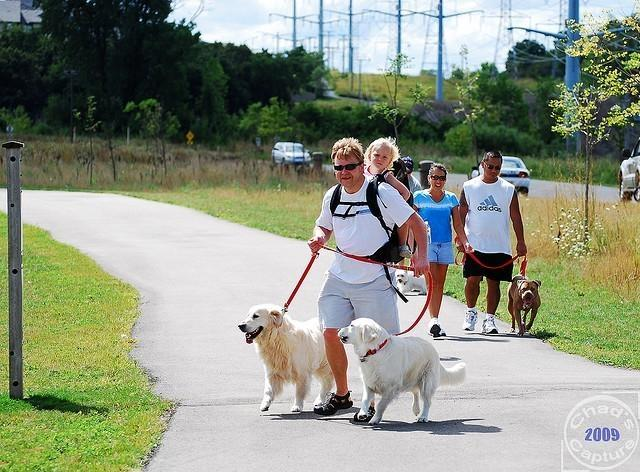car: (471, 156, 530, 194), (617, 137, 640, 202), (272, 141, 310, 164)
